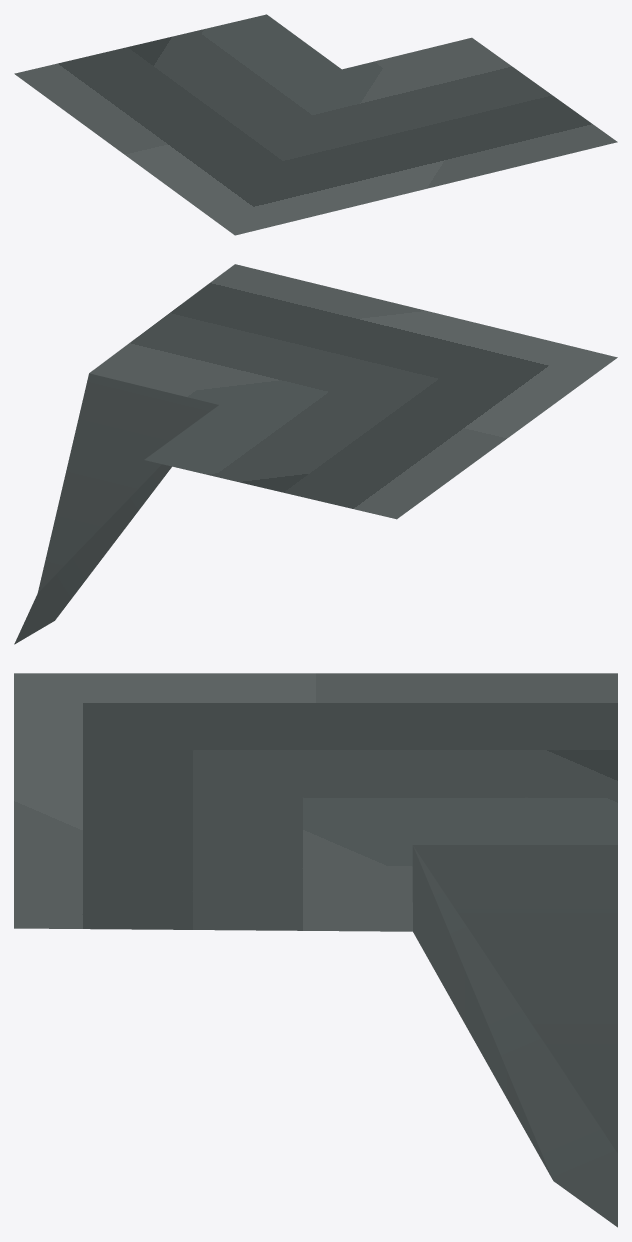
3 renders of one model, top to bottom at view 1: azimuth 30°, elevation 25°; view 2: azimuth 150°, elevation 25°; view 3: azimuth 270°, elevation 25°, orthographic. The views are drawn at different scales.
Bounding box in the file's own units: 0.5 × 0.2732 × 0.5.
1 material, 1 textured.
